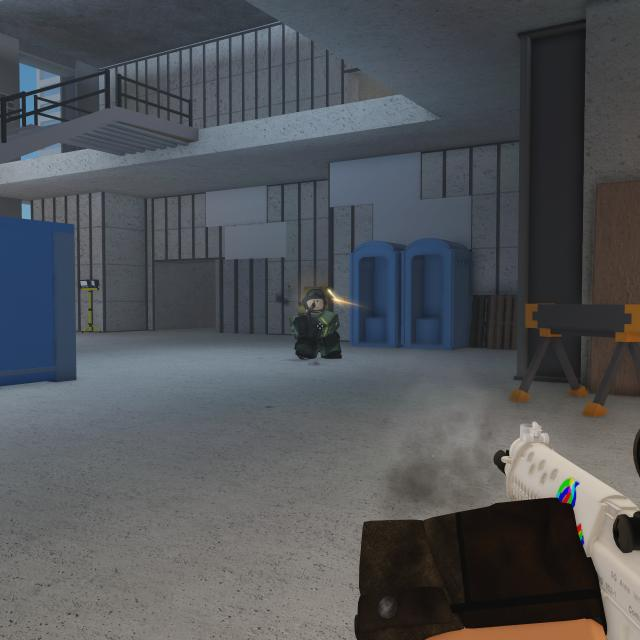Head: (306, 288, 331, 314)
Player: (292, 288, 345, 362)
